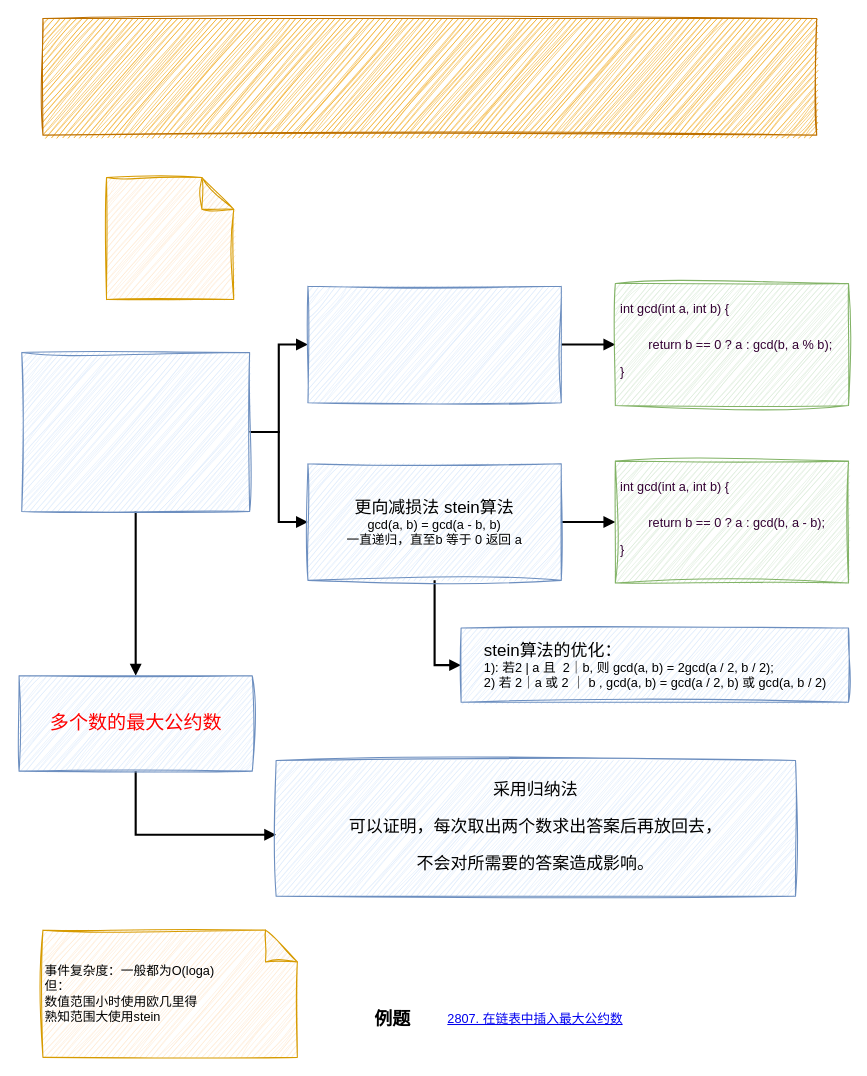
This 867x1076 diagram has some shape labels left out. Here are the shapes that lost their labels. From the top down, the box of each, then its label:
(42, 17, 817, 135): 最大公约数 Greatest Common Divisor 最大公约数，简称gcd
(105, 176, 234, 299): 若 a 能被 b整除 ，写作 b | a
(307, 285, 561, 403): 欧几里得算法 gcd(a, b) = gcd(b, a mod b) 一直递归，直至b 等于 0 返回 a
(21, 351, 250, 511): 两个数的最大公约数 gcd(a, b)
